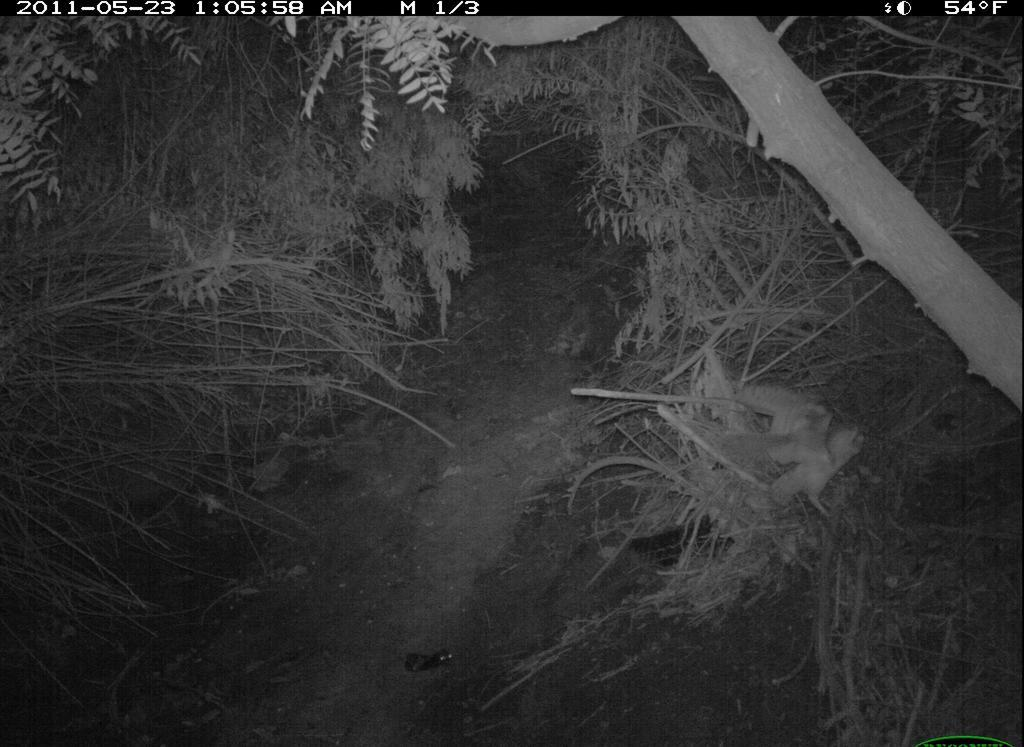bird: (722, 392, 866, 521)
